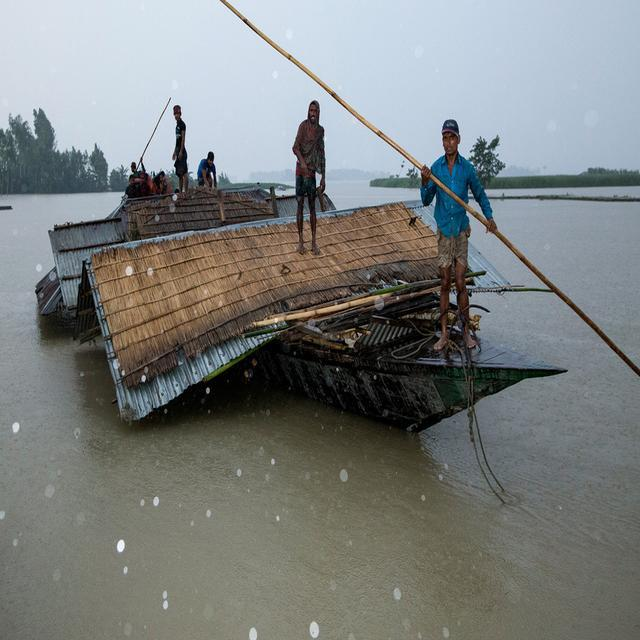Person-RiskLevel3: (411, 111, 492, 367), (282, 94, 334, 252), (160, 93, 201, 196), (123, 154, 167, 197), (198, 145, 221, 200)
